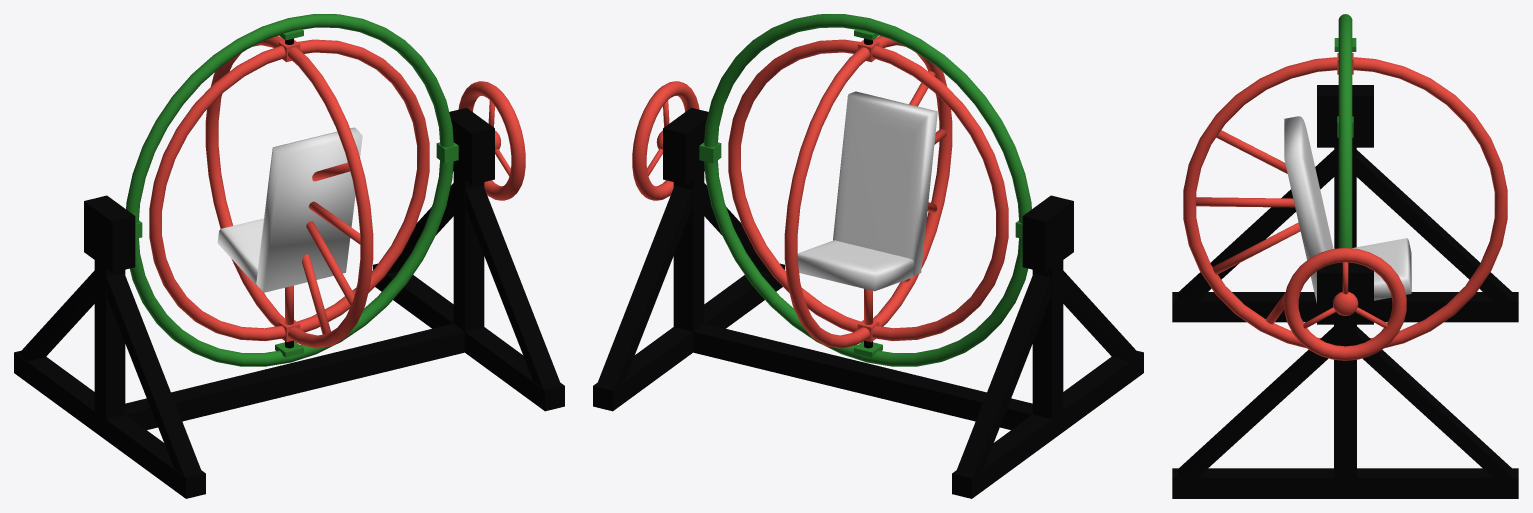
The model's file is Giroscopio.fbx.
The picture shows the model from 3 angles, left to right: view 1: azimuth 30°, elevation 25°; view 2: azimuth 150°, elevation 25°; view 3: azimuth 270°, elevation 25°; orthographic projection.
Parts seen in each view (by area): view 1: Base giroscopio, Aro externo, Cojin giroscopio 2, Aro interno 2, Aro interno 1, Soportes girs interno, Timon giroscopio, Cojin giroscopio 1; view 2: Base giroscopio, Cojin giroscopio 2, Aro externo, Aro interno 2, Aro interno 1, Cojin giroscopio 1, Timon giroscopio, Soportes girs interno; view 3: Base giroscopio, Aro interno 1, Timon giroscopio, Cojin giroscopio 2, Aro externo, Soportes girs interno, Cojin giroscopio 1, Cylinder.003.
Boxes of the visible parts, <box> form: Base giroscopio: <box>14,107,564,498</box>; Aro externo: <box>126,14,458,366</box>; Cojin giroscopio 2: <box>256,127,362,292</box>; Aro interno 2: <box>149,39,429,340</box>; Aro interno 1: <box>205,36,373,348</box>; Soportes girs interno: <box>285,162,360,334</box>; Timon giroscopio: <box>458,81,525,200</box>; Cojin giroscopio 1: <box>217,218,263,284</box>; Base giroscopio: <box>593,107,1143,498</box>; Cojin giroscopio 2: <box>833,91,937,275</box>; Aro externo: <box>699,14,1031,366</box>; Aro interno 2: <box>728,39,1008,340</box>; Aro interno 1: <box>784,36,952,348</box>; Cojin giroscopio 1: <box>797,240,914,291</box>; Timon giroscopio: <box>632,81,699,200</box>; Soportes girs interno: <box>864,70,946,324</box>; Base giroscopio: <box>1172,85,1518,498</box>; Aro interno 1: <box>1183,57,1507,348</box>; Timon giroscopio: <box>1284,247,1406,360</box>; Cojin giroscopio 2: <box>1284,116,1333,303</box>; Aro externo: <box>1337,14,1353,248</box>; Soportes girs interno: <box>1195,130,1300,324</box>; Cojin giroscopio 1: <box>1352,238,1411,300</box>; Cylinder.003: <box>1303,262,1387,328</box>.
Bounding box in the file's own units: 377 × 507 × 449.
